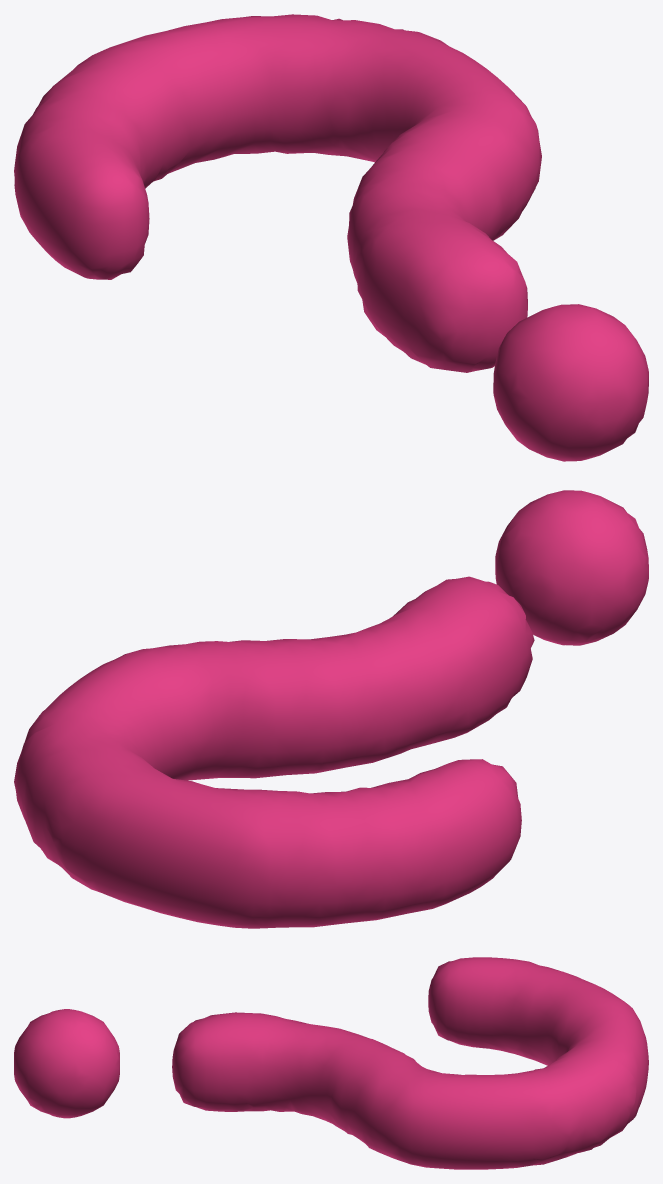
Rendered from fatQuestionmark.glb.
The picture shows the model from 3 angles, top to bottom: view 1: azimuth 30°, elevation 25°; view 2: azimuth 150°, elevation 25°; view 3: azimuth 270°, elevation 25°; orthographic projection. The views are drawn at different scales.
Visible parts, largest first — view 1: dot; view 2: dot; view 3: dot.
Boxes of the visible parts, x1=… form: dot: x1=14, y1=14, x2=648, y2=461; dot: x1=14, y1=490, x2=648, y2=928; dot: x1=14, y1=957, x2=648, y2=1169.
Bounding box in the file's own units: 7.19 × 2.07 × 12.42.
